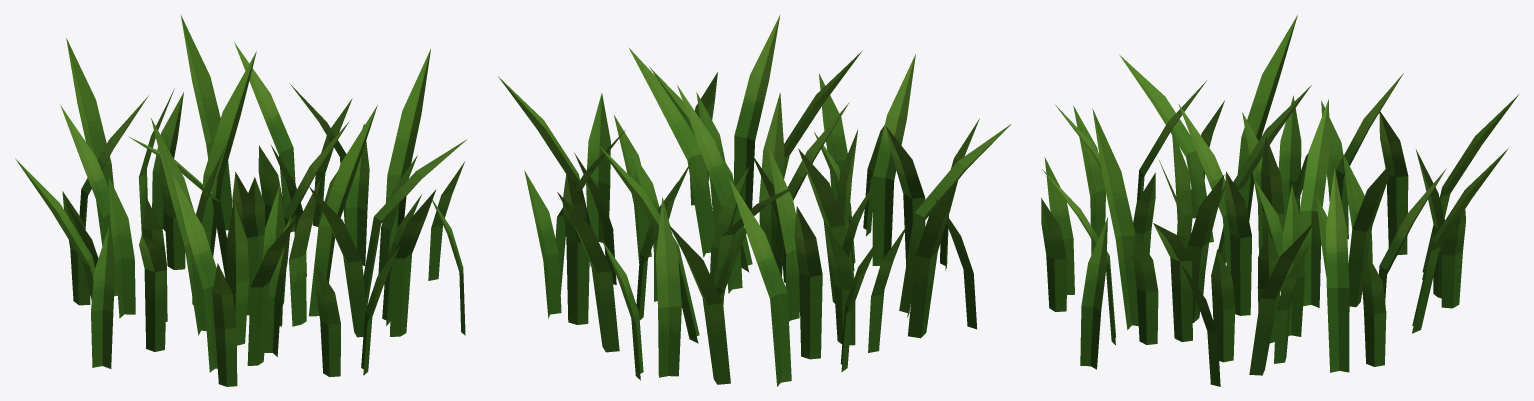
File: GrassMedium1.fbx
3 views of the same model, side by side, from view 1: azimuth 30°, elevation 25°; view 2: azimuth 150°, elevation 25°; view 3: azimuth 270°, elevation 25° (orthographic). The views are drawn at different scales.
Visible parts, largest first — view 1: GrassMedium1; view 2: GrassMedium1; view 3: GrassMedium1.
Boxes of the visible parts, x1,y1,x2,y2 form: GrassMedium1: [15, 14, 467, 386]; GrassMedium1: [498, 15, 1010, 386]; GrassMedium1: [1041, 15, 1518, 386].
Size of the model in its own units: 1.07 by 0.4406 by 1.04.
1 material, 1 textured.
